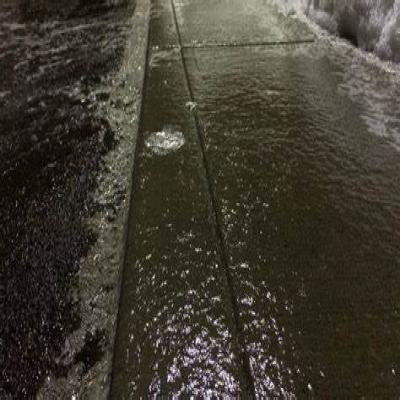iced-road: (0, 2, 400, 400)
